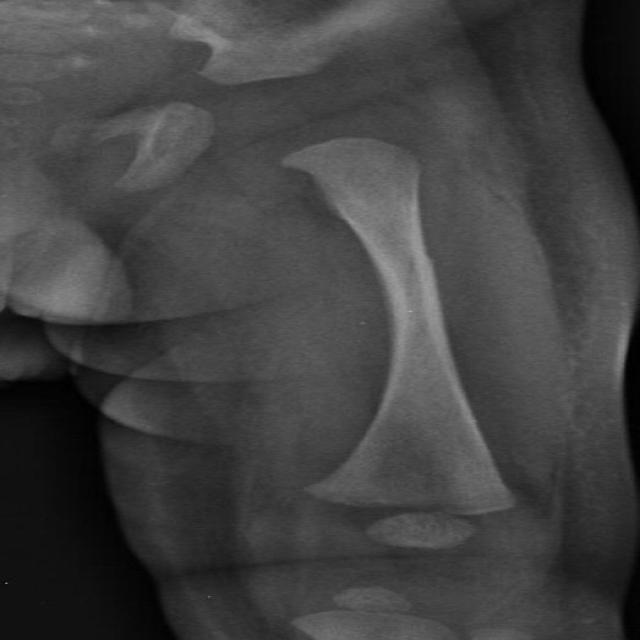fracture: (399, 252, 432, 306)
